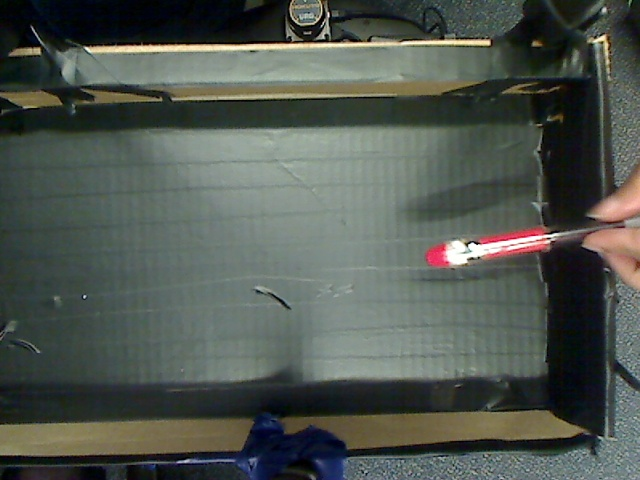pen: (403, 211, 638, 278)
